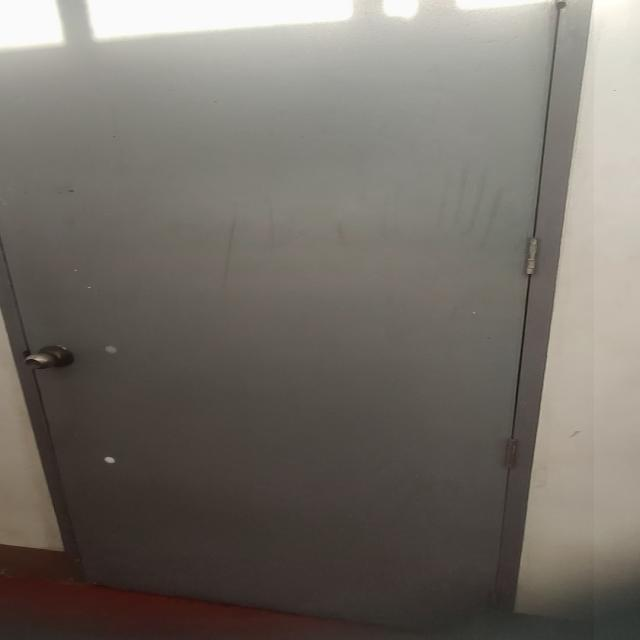door: (0, 0, 594, 640)
